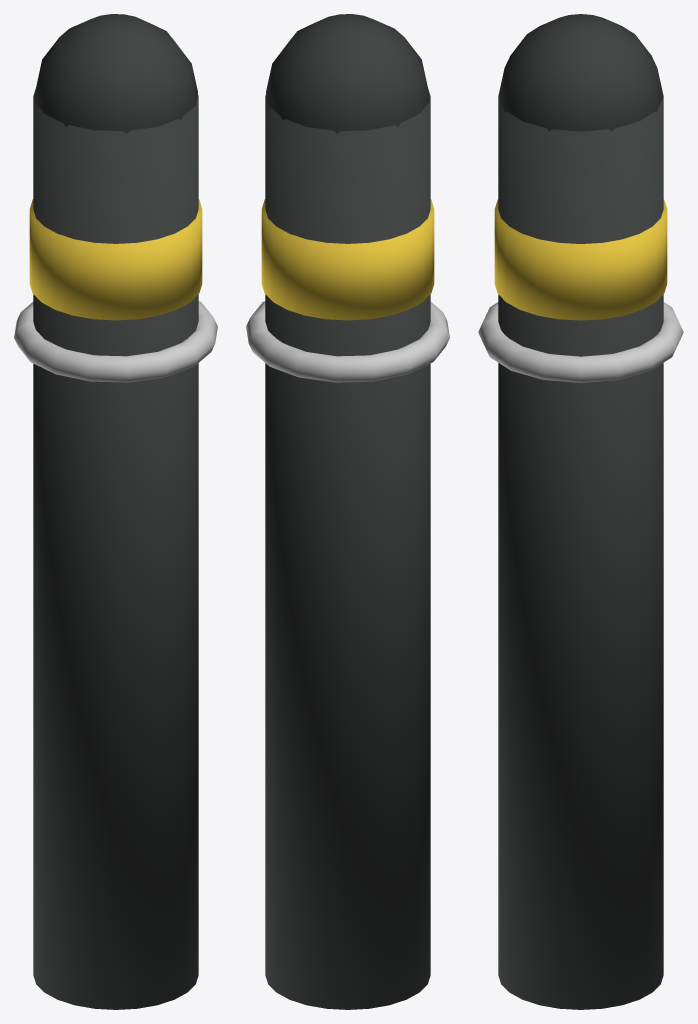
File: bollard.glb
3 views of the same model, side by side, from view 1: azimuth 30°, elevation 25°; view 2: azimuth 150°, elevation 25°; view 3: azimuth 270°, elevation 25° (orthographic).
Parts seen in each view (by area): view 1: bollard; view 2: bollard; view 3: bollard.
Part boxes in pixels (x1=…): bollard: x1=14, y1=14, x2=217, y2=1009; bollard: x1=246, y1=14, x2=449, y2=1009; bollard: x1=478, y1=14, x2=683, y2=1009.
Size of the model in its own units: 0.174 by 0.89 by 0.174.
